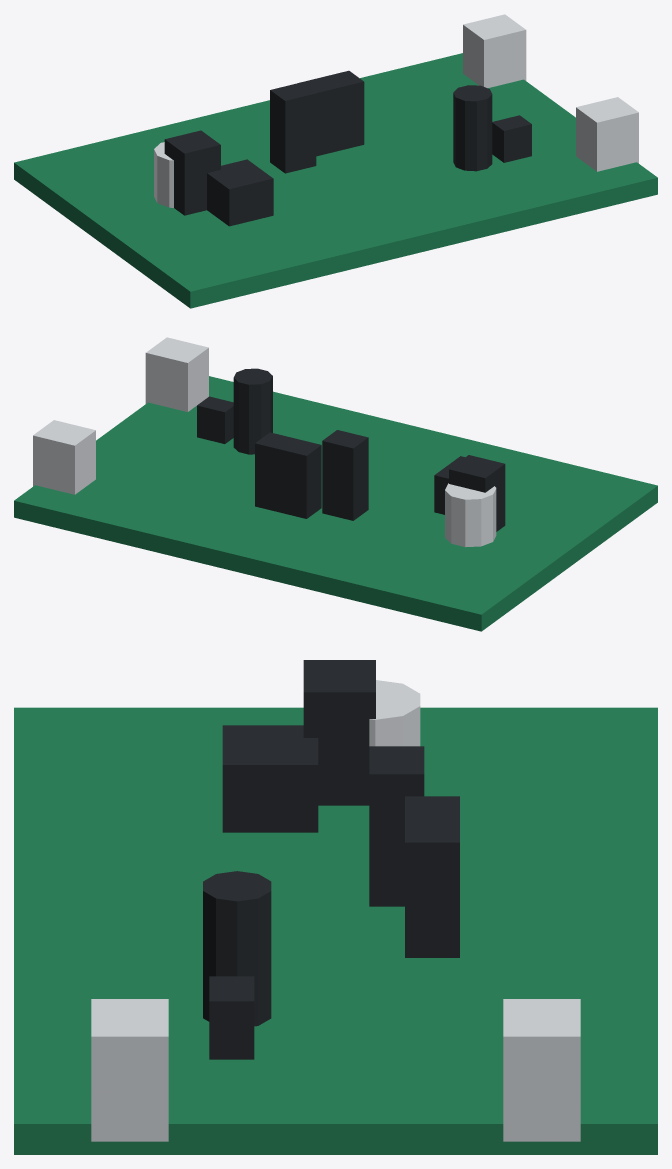
File: pcb.glb
3 views of the same model, one above another, from view 1: azimuth 30°, elevation 25°; view 2: azimuth 150°, elevation 25°; view 3: azimuth 270°, elevation 25° (orthographic). The views are drawn at different scales.
Visible parts, largest first — view 1: ForgeCore item; view 2: ForgeCore item; view 3: ForgeCore item.
Part boxes in pixels (x1=…): ForgeCore item: x1=14, y1=14, x2=657, y2=308; ForgeCore item: x1=14, y1=337, x2=657, y2=631; ForgeCore item: x1=14, y1=660, x2=657, y2=1154.
Bounding box in the file's own units: 0.5226 × 0.0951 × 0.34.
